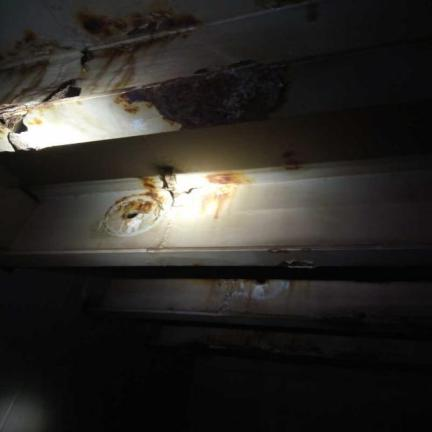besi_tidak_karat: (0, 156, 431, 266), (0, 247, 431, 268)
karat: (126, 64, 287, 128), (78, 11, 198, 37)
